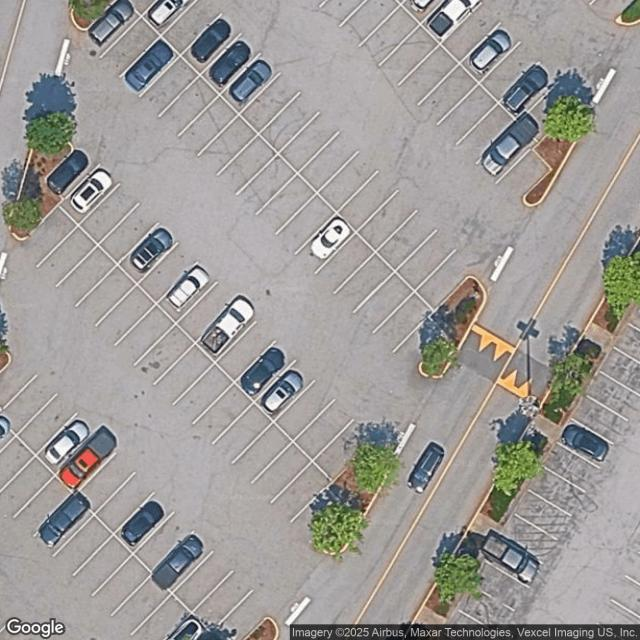car: (475, 109, 545, 182), (53, 423, 123, 495), (196, 290, 263, 361), (146, 529, 211, 595), (32, 487, 94, 551), (497, 59, 556, 118), (237, 339, 292, 402), (114, 495, 172, 551), (461, 25, 518, 80), (83, 0, 139, 51), (421, 0, 485, 43), (42, 147, 93, 199), (66, 166, 116, 218), (125, 39, 175, 91), (185, 14, 235, 66), (224, 56, 274, 108), (258, 367, 308, 419), (161, 265, 211, 317), (40, 415, 90, 467), (125, 223, 175, 274), (205, 37, 255, 88), (304, 215, 354, 266), (144, 0, 192, 29), (168, 614, 207, 639)
objects: (7, 113, 73, 241), (317, 445, 385, 554), (420, 274, 487, 379), (523, 112, 583, 206), (73, 0, 115, 30), (247, 617, 277, 639)
stall: (318, 153, 379, 214), (518, 81, 579, 142), (95, 285, 156, 346), (137, 243, 198, 304), (459, 22, 519, 83), (197, 114, 257, 175), (240, 73, 300, 134), (217, 134, 277, 195), (279, 112, 339, 173), (256, 173, 316, 234), (276, 193, 336, 254), (235, 152, 295, 213), (260, 92, 320, 153), (178, 95, 238, 156), (220, 54, 280, 115), (201, 34, 261, 95), (298, 132, 358, 193), (120, 36, 180, 97), (98, 203, 158, 264), (180, 15, 240, 76), (140, 55, 200, 116), (357, 191, 417, 252), (315, 233, 375, 294), (376, 211, 436, 272), (334, 252, 394, 313), (337, 172, 397, 233), (296, 214, 356, 275), (477, 122, 537, 183), (373, 291, 433, 352), (415, 251, 475, 312), (354, 272, 414, 333), (419, 63, 479, 124), (438, 83, 498, 144), (379, 25, 439, 86), (441, 3, 501, 64), (360, 4, 420, 65), (399, 44, 459, 105), (77, 265, 137, 326), (118, 224, 178, 285), (57, 245, 117, 306), (37, 226, 97, 287), (18, 205, 78, 266), (196, 302, 256, 363), (154, 343, 214, 404), (176, 283, 236, 344), (135, 323, 195, 384), (114, 305, 174, 366), (157, 263, 217, 324), (274, 381, 334, 442), (232, 422, 292, 483), (255, 361, 315, 422), (213, 403, 273, 464), (193, 383, 253, 444), (215, 321, 275, 382), (174, 364, 234, 425), (92, 554, 152, 615), (112, 573, 172, 634), (192, 572, 252, 633), (133, 513, 193, 574), (172, 552, 232, 613), (313, 421, 373, 482), (293, 400, 353, 461), (252, 442, 312, 503), (275, 380, 335, 441), (53, 515, 113, 576), (16, 395, 76, 456), (56, 434, 116, 495), (289, 483, 349, 544), (159, 75, 219, 135), (79, 185, 139, 245), (100, 17, 160, 77), (395, 231, 455, 291), (479, 42, 539, 102), (498, 61, 558, 121), (456, 102, 516, 162), (59, 165, 119, 225), (235, 343, 295, 403), (271, 462, 331, 522), (14, 475, 74, 535), (74, 454, 134, 514), (94, 474, 154, 534), (72, 535, 132, 595), (35, 414, 95, 474), (36, 415, 96, 475), (34, 494, 93, 555), (113, 493, 172, 554), (153, 533, 212, 593), (1, 376, 56, 437), (496, 150, 551, 205), (43, 146, 98, 201), (86, 0, 141, 54), (2, 458, 53, 515), (396, 315, 447, 368), (131, 595, 192, 639), (213, 592, 270, 639), (0, 436, 34, 489), (0, 360, 33, 413), (165, 615, 210, 639)
